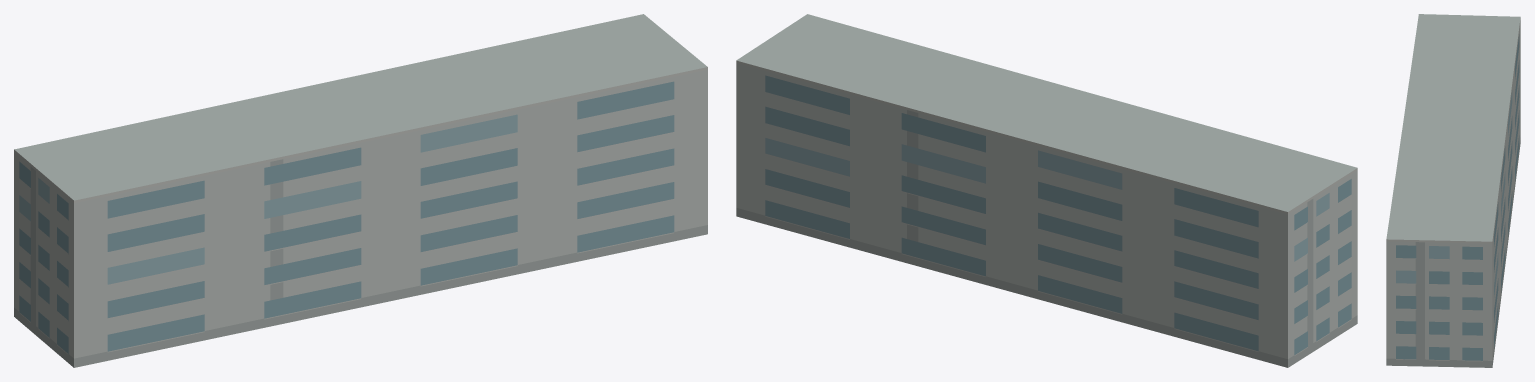
File: residential-84965dfb-f3ff-4b45-9286-11375773681b.glb
The picture shows the model from 3 angles, left to right: view 1: azimuth 30°, elevation 25°; view 2: azimuth 150°, elevation 25°; view 3: azimuth 270°, elevation 25°; orthographic projection. The views are drawn at different scales.
Visible parts, largest first — view 1: residential-84965dfb-f3ff-4b45-9286-11375773681b.tmp; view 2: residential-84965dfb-f3ff-4b45-9286-11375773681b.tmp; view 3: residential-84965dfb-f3ff-4b45-9286-11375773681b.tmp.
Part boxes in pixels (box(x1,y1,x2,y2)): residential-84965dfb-f3ff-4b45-9286-11375773681b.tmp: box(14, 14, 707, 367); residential-84965dfb-f3ff-4b45-9286-11375773681b.tmp: box(736, 14, 1357, 367); residential-84965dfb-f3ff-4b45-9286-11375773681b.tmp: box(1386, 14, 1520, 367).
Size of the model in its own units: 59.01 by 15.25 by 14.71.
